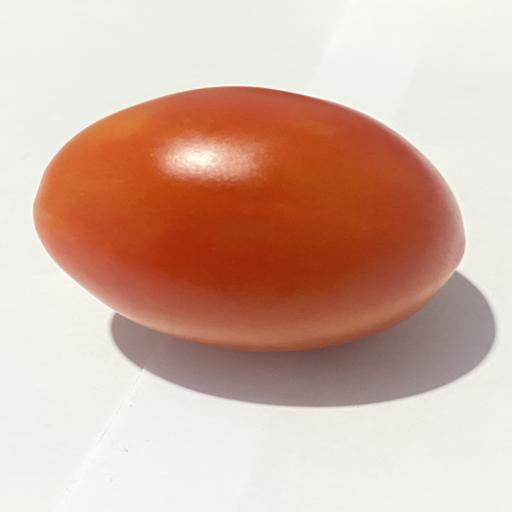ripe: (34, 87, 464, 351)
